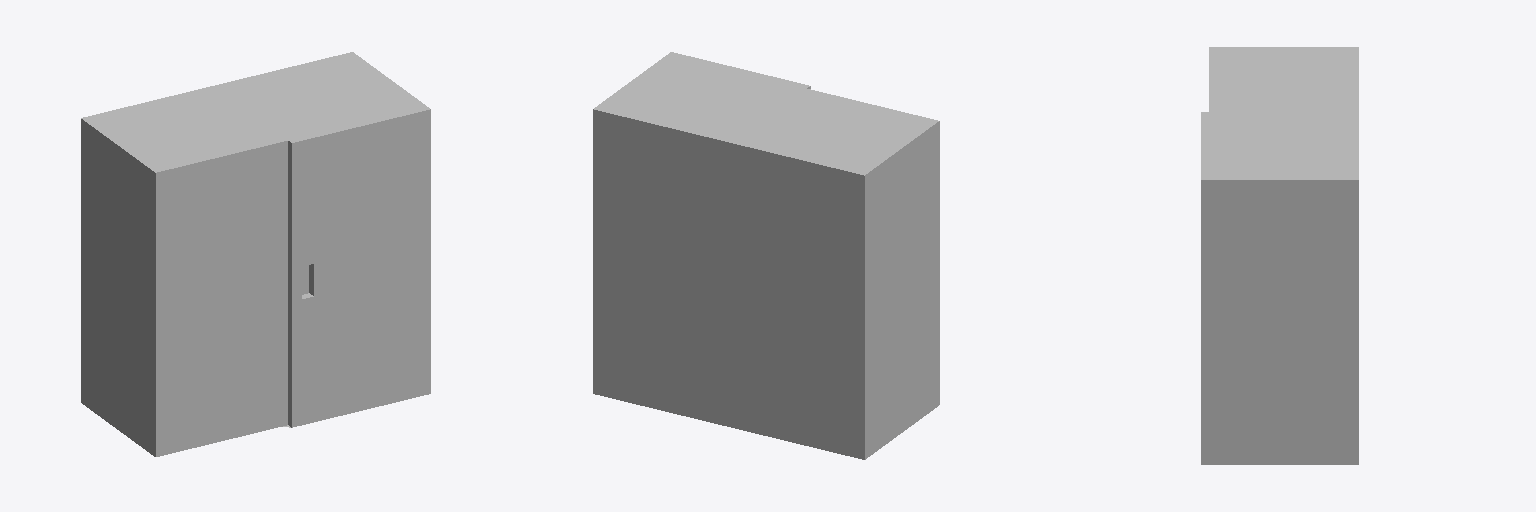
Rendered from Closet.obj.
3 renders of one model, left to right at view 1: azimuth 30°, elevation 25°; view 2: azimuth 150°, elevation 25°; view 3: azimuth 270°, elevation 25°, orthographic.
Parts seen in each view (by area): view 1: Closet; view 2: Closet; view 3: Closet.
Boxes of the visible parts, box(x1,y1,x2,y2) form: Closet: box(81, 52, 430, 456); Closet: box(593, 52, 939, 459); Closet: box(1201, 47, 1358, 464).
Bounding box in the file's own units: 2 × 2 × 1.